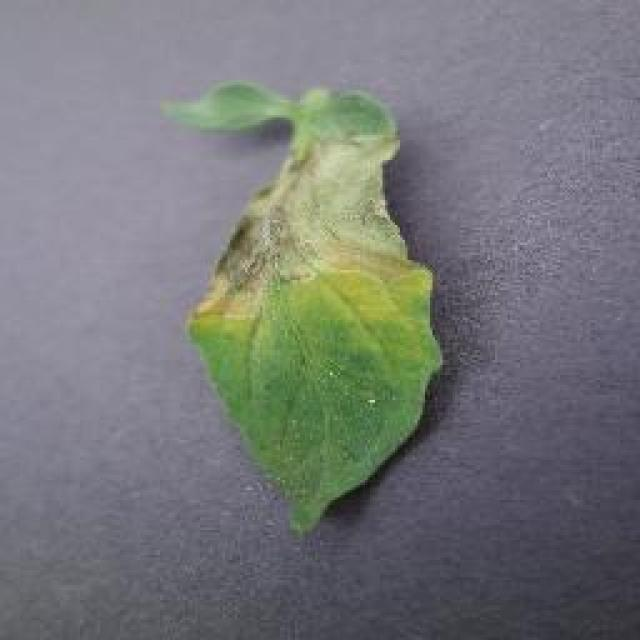Tomato late blight leaf: (158, 83, 444, 532)
